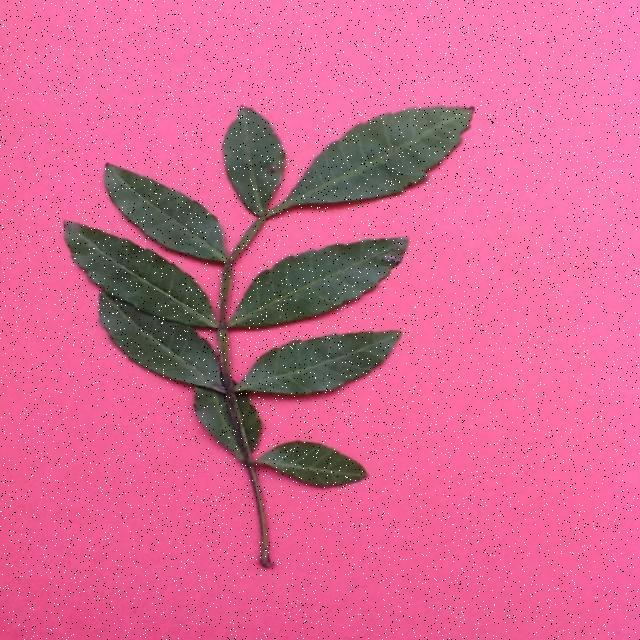foliage: (274, 103, 474, 217), (58, 218, 220, 334), (218, 235, 409, 333), (93, 288, 231, 398), (96, 162, 232, 270), (238, 326, 404, 398), (220, 104, 286, 218), (186, 388, 272, 468), (254, 437, 376, 490)
